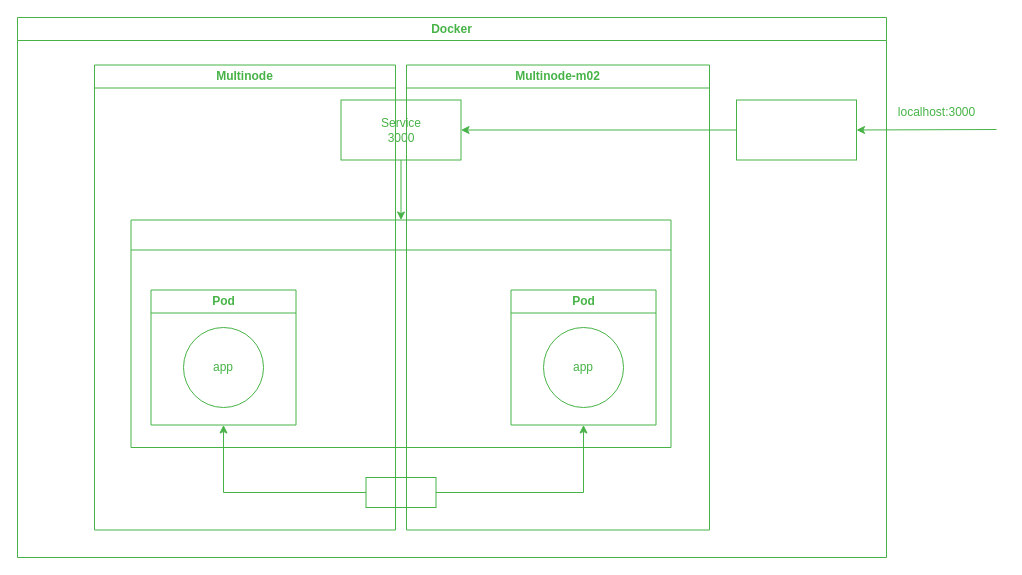
Image size: 1022x575. Some labels were removed from this diagram. Here are the shapes that lost their labels. From the top down, the box of each, then its label:
(736, 99, 856, 160): Proxy
(130, 219, 671, 448): Deployment
(365, 476, 436, 508): config
